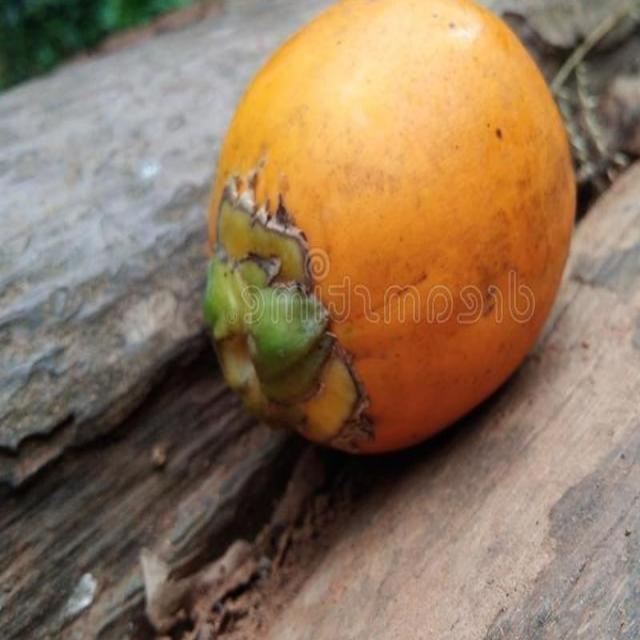good: (202, 0, 578, 459)
